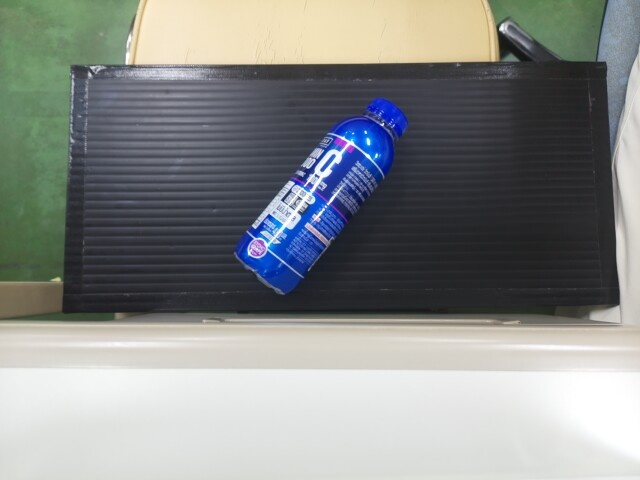plastic_bottle: (235, 91, 409, 289)
